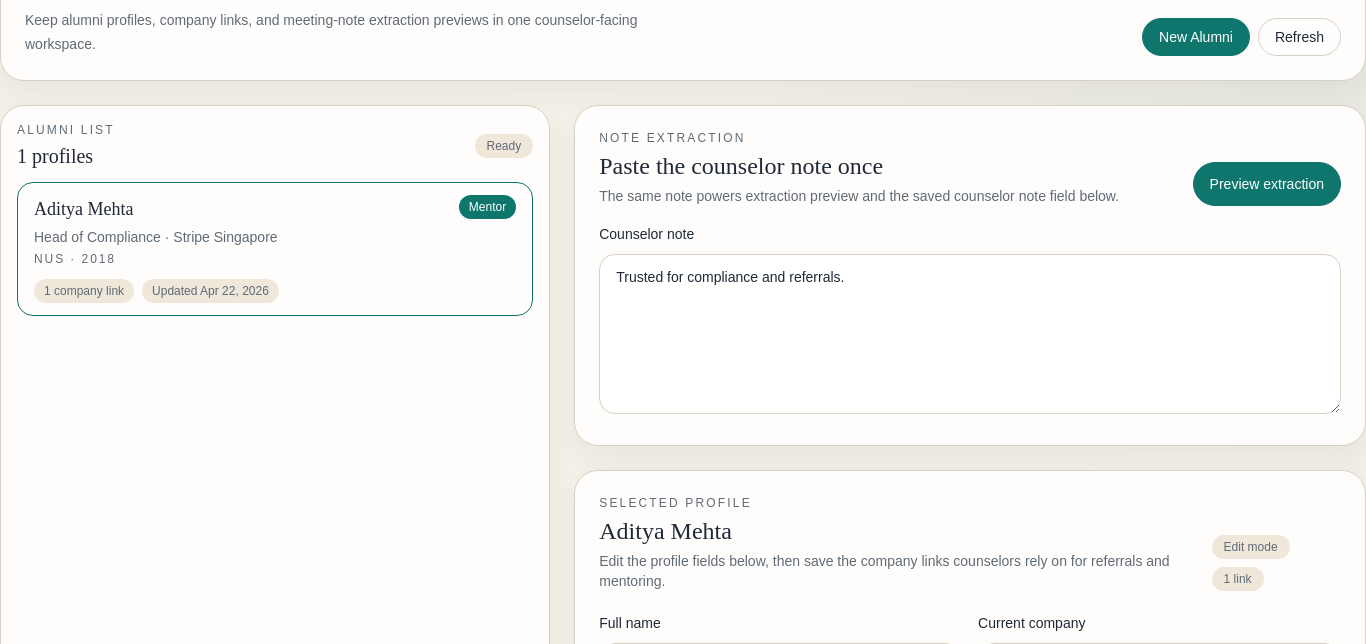
AlumniFactsTab › shows an extraction preview from meeting notes
Replace the text in the text box labelled "Counselor note" with "Counselor notes should not drive extraction.": (970, 334) [599,254,1341,414]
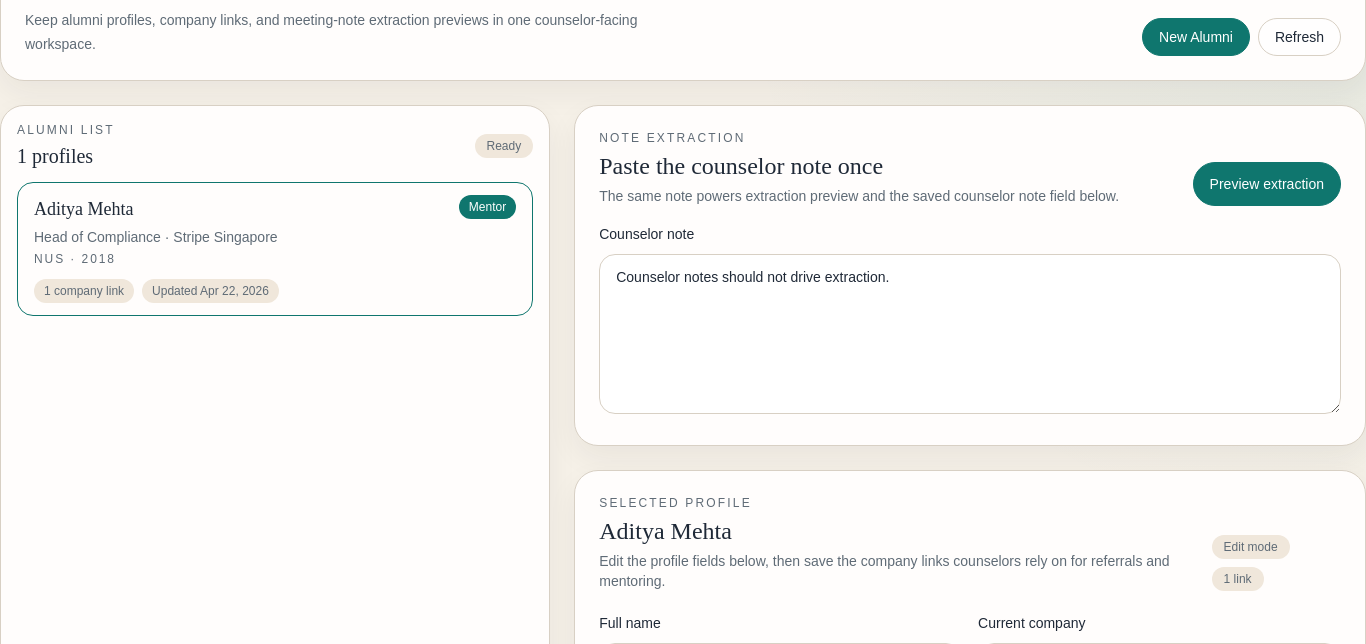
Replace the text in the text box labelled "Counselor note" with "Aditya can mentor students for compliance roles at Stripe Singapore.": (970, 334) [599,254,1341,414]
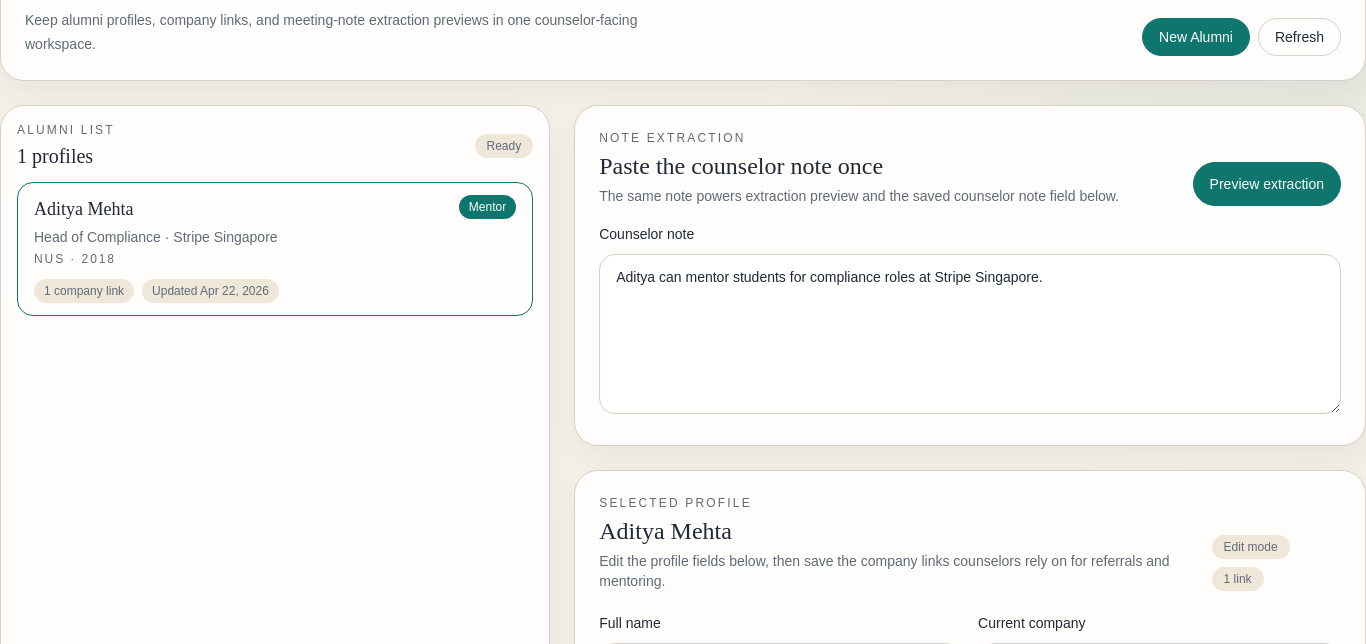
Click the button "Preview extraction": click(1267, 184) [1193,162,1341,206]
(page scrolled)
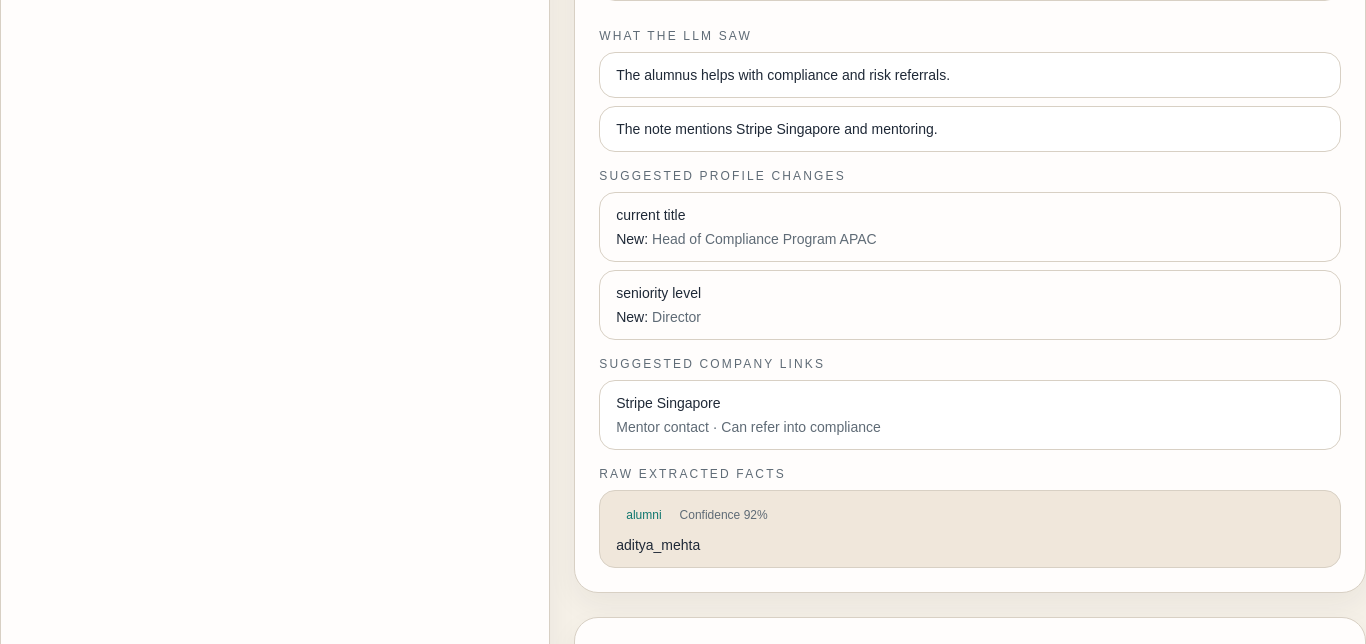
Expected: the list item "The alumnus helps with compliance and risk referrals." is shown, [599,52,1341,98]
Expected: the text "aditya_mehta" is shown, [616,537,700,553]
Expected: the text "Suggested profile changes" is shown, [599,169,846,183]
